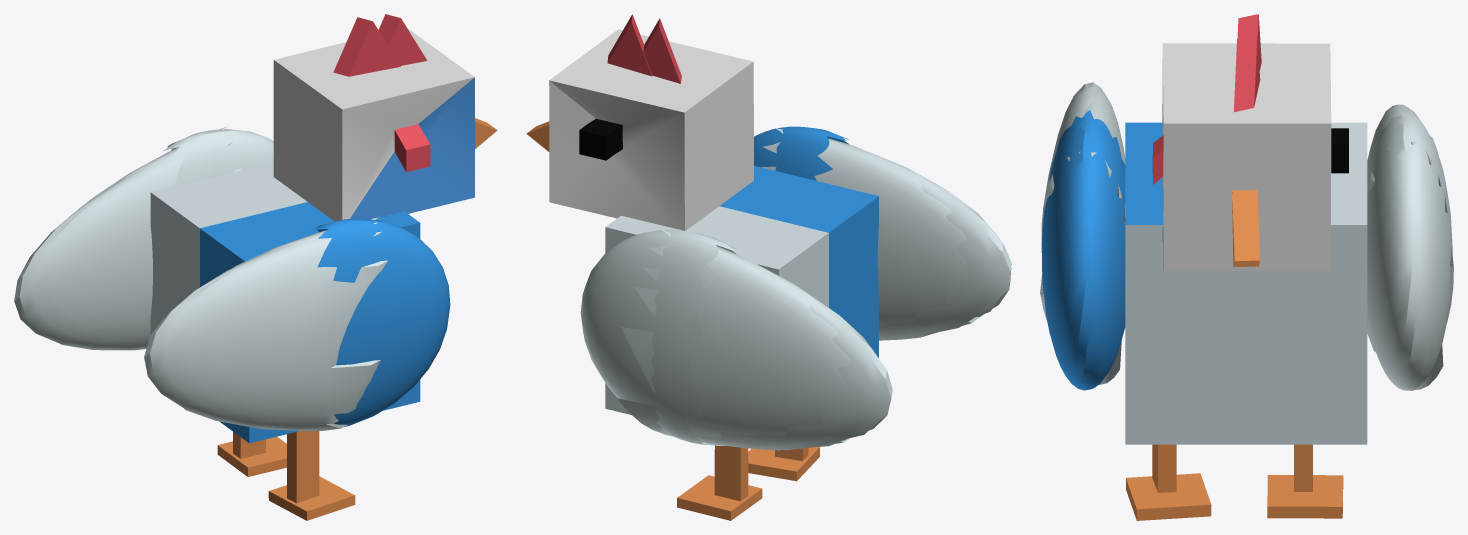
The model's file is RangedChicken.fbx.
The picture shows the model from 3 angles, left to right: view 1: azimuth 30°, elevation 25°; view 2: azimuth 150°, elevation 25°; view 3: azimuth 270°, elevation 25°; orthographic projection. The views are drawn at different scales.
Parts seen in each view (by area): view 1: Right Wing, Head, Left Wing, Body, Right Leg, Left Leg; view 2: Left Wing, Head, Right Wing, Body, Left Leg, Right Leg; view 3: Body, Head, Right Wing, Left Wing, Right Leg, Left Leg.
Part boxes in pixels (<box>): Right Wing: <box>144,217,450,431</box>; Head: <box>273,14,497,221</box>; Left Wing: <box>14,126,273,350</box>; Body: <box>150,162,420,443</box>; Right Leg: <box>268,431,355,520</box>; Left Leg: <box>217,432,286,476</box>; Left Wing: <box>580,229,892,450</box>; Head: <box>526,14,753,230</box>; Right Wing: <box>754,126,1011,340</box>; Body: <box>605,165,878,450</box>; Left Leg: <box>677,445,762,520</box>; Right Leg: <box>748,447,819,481</box>; Body: <box>1125,122,1367,444</box>; Head: <box>1152,14,1348,271</box>; Right Wing: <box>1040,82,1125,390</box>; Left Wing: <box>1367,104,1453,390</box>; Right Leg: <box>1126,444,1211,520</box>; Left Leg: <box>1267,444,1343,518</box>.
Size of the model in its own units: 4.3 by 4.33 by 3.02.
